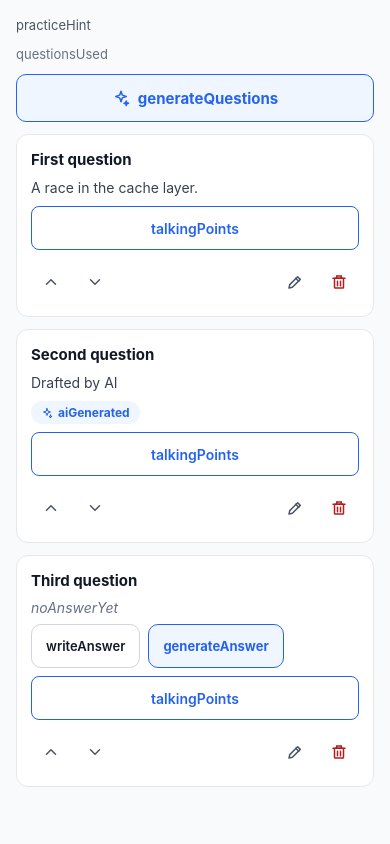
Test case: MockInterviewQuestionsScreen › generating an answer › shows the draft for review, labelled as AI generated, and saves nothing yet
This screenshot has width=390, height=844.
Click the button with test id "generate-answer-q3".
click(216, 646)  # box [148,624,284,668]
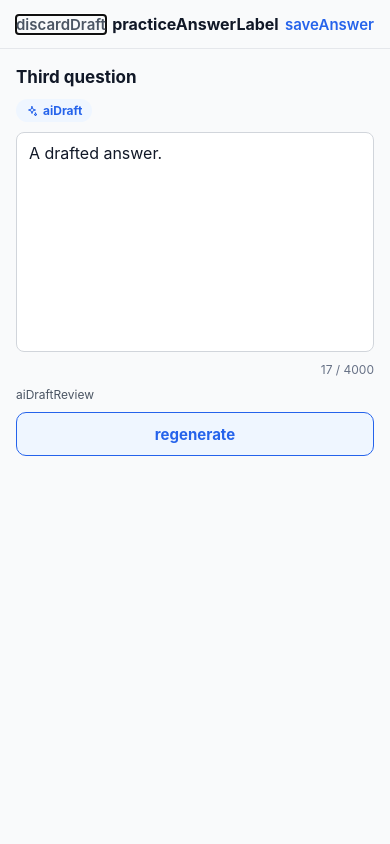
Result: the text box with test id "answer-draft-input" holds "A drafted answer." at [16,132,374,352]
Result: the element with test id "answer-draft-badge" is shown at [16,99,92,122]
